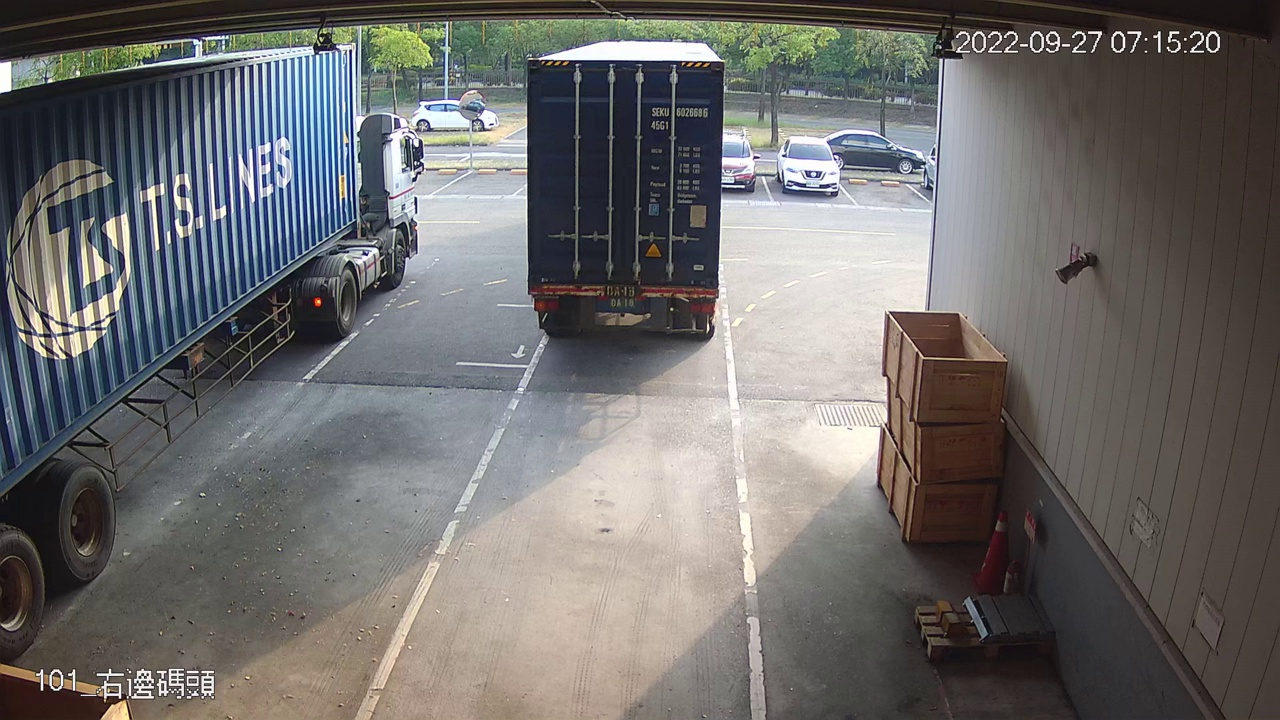container: (648, 101, 714, 137)
